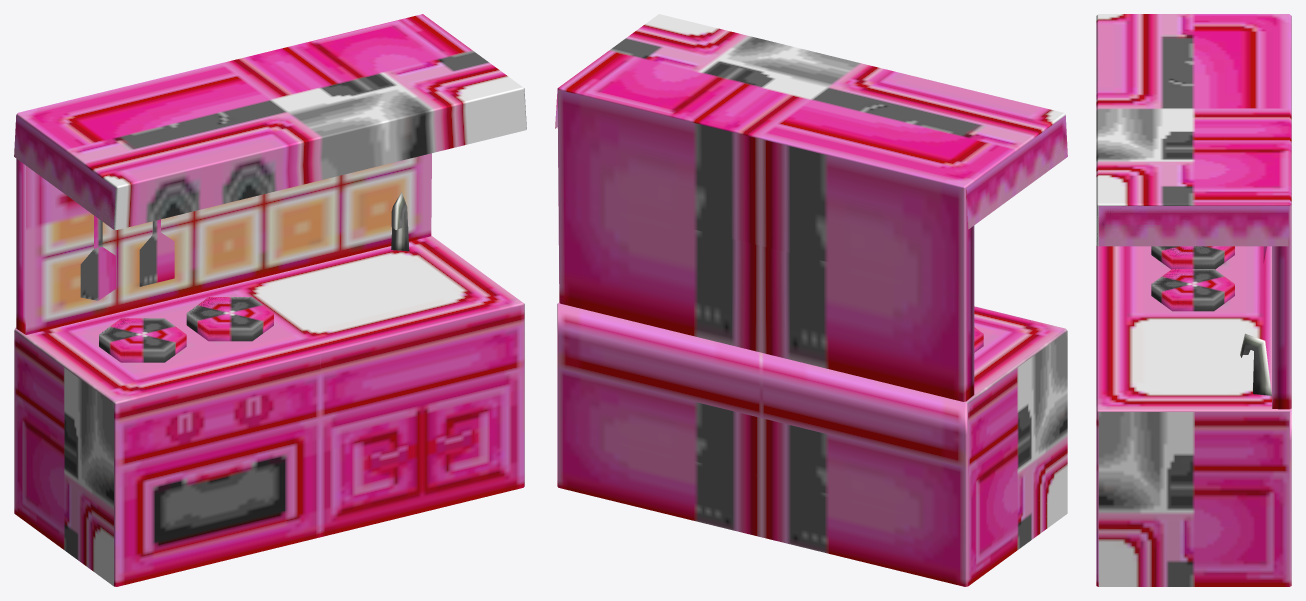
File: rmk_lov_kitchen.dae
3 renders of one model, left to right at view 1: azimuth 30°, elevation 25°; view 2: azimuth 150°, elevation 25°; view 3: azimuth 270°, elevation 25°, orthographic. The views are drawn at different scales.
Parts seen in each view (by area): view 1: rmk_lov_kitchen; view 2: rmk_lov_kitchen; view 3: rmk_lov_kitchen.
Part boxes in pixels (bbox=[...]): rmk_lov_kitchen: bbox=[14, 14, 526, 586]; rmk_lov_kitchen: bbox=[555, 14, 1067, 586]; rmk_lov_kitchen: bbox=[1096, 14, 1291, 586].
Size of the model in its own units: 56.21 by 52 by 24.
Materials: 1 (1 with a texture image).
